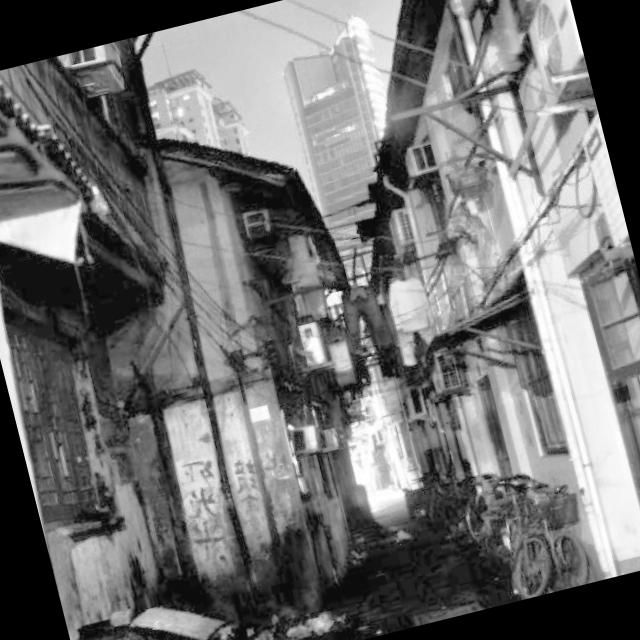Bicycle: (436, 440, 590, 612), (388, 440, 511, 602)
